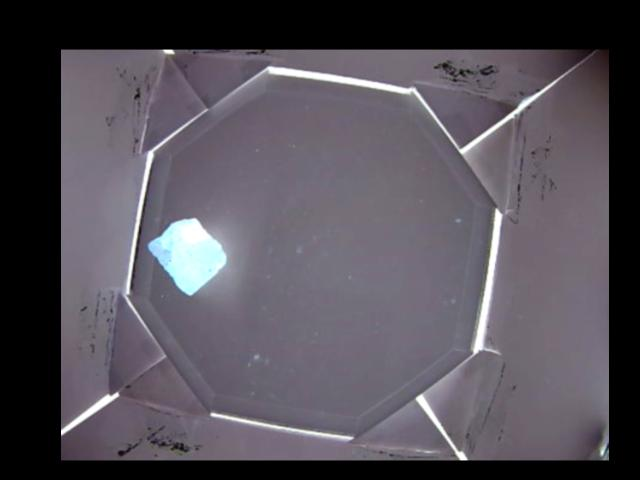Brisk: (146, 218, 224, 294)
